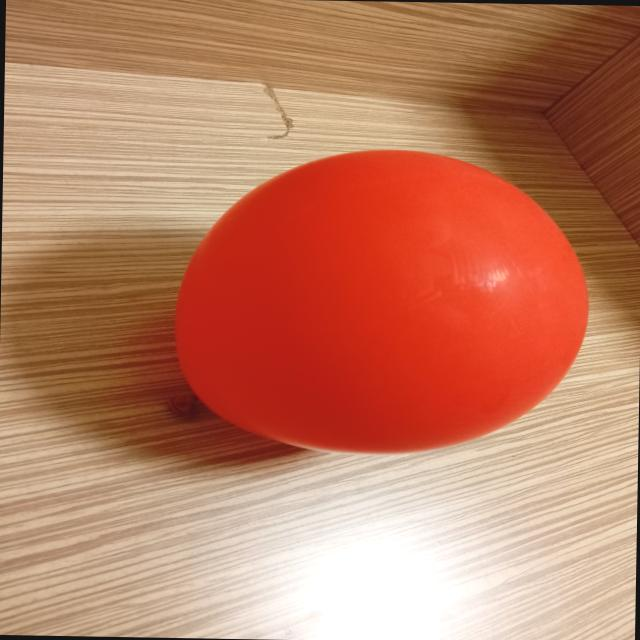balloon: (175, 150, 588, 453)
